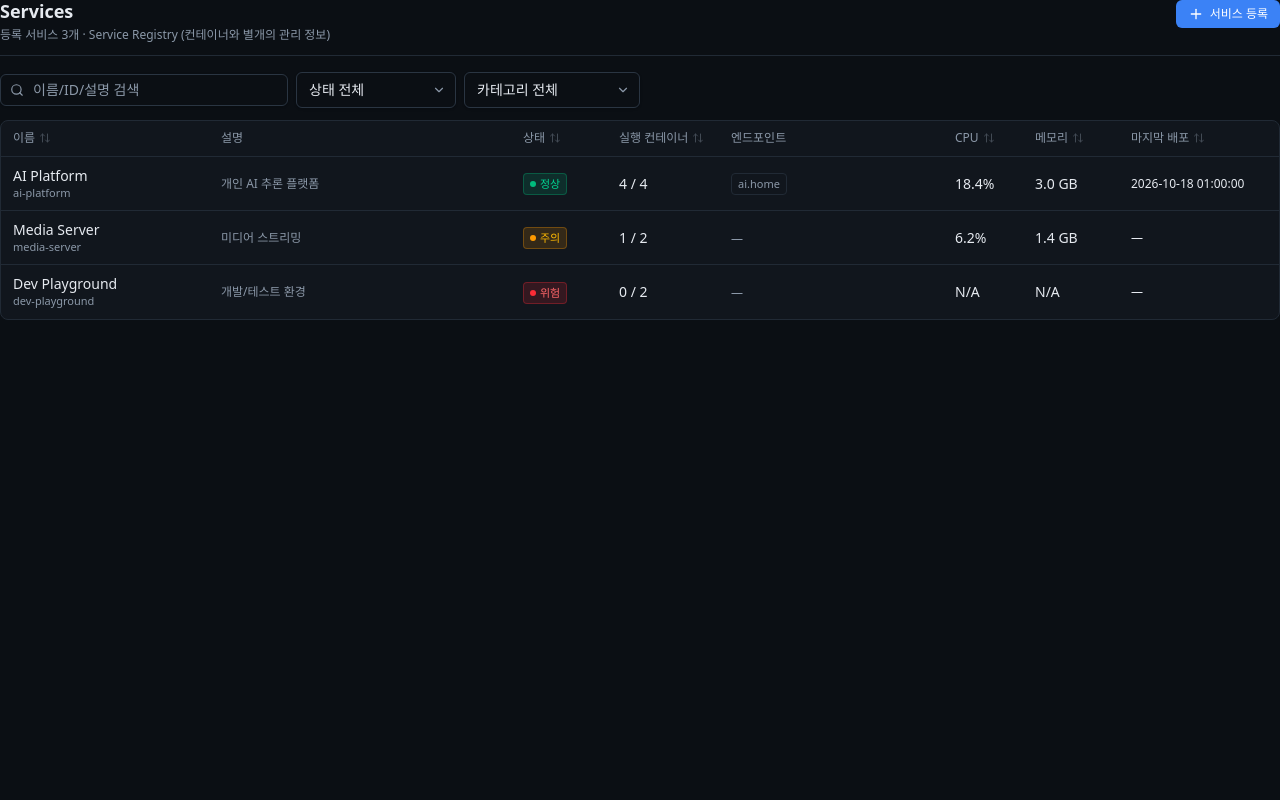
Services 페이지 › 등록 다이얼로그에서 필수값 검증 오류를 표시한다
Expected: the text "AI Platform" is shown, [13,166,88,185]
Click the button "서비스 등록".
click(1228, 14)  # box [1176,0,1279,28]
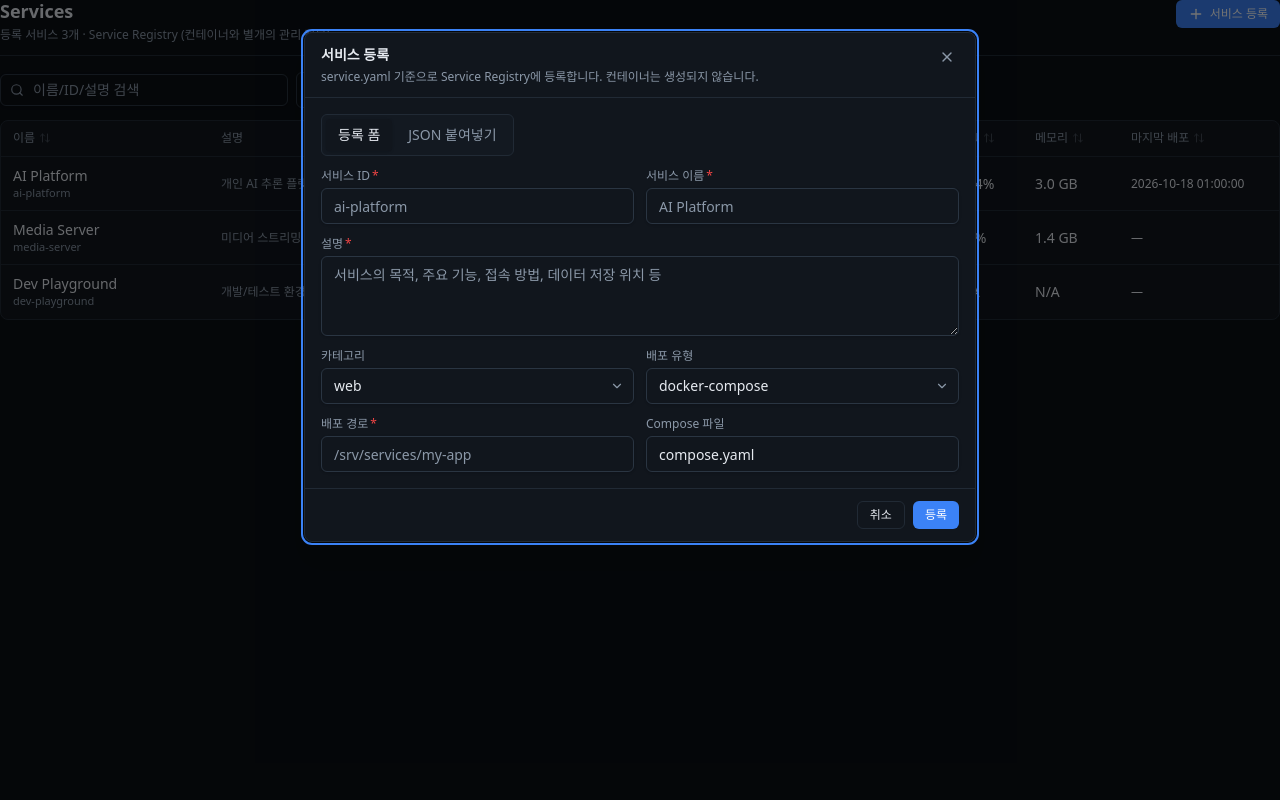
Click the button "등록".
click(936, 515)  # box [913,501,959,529]
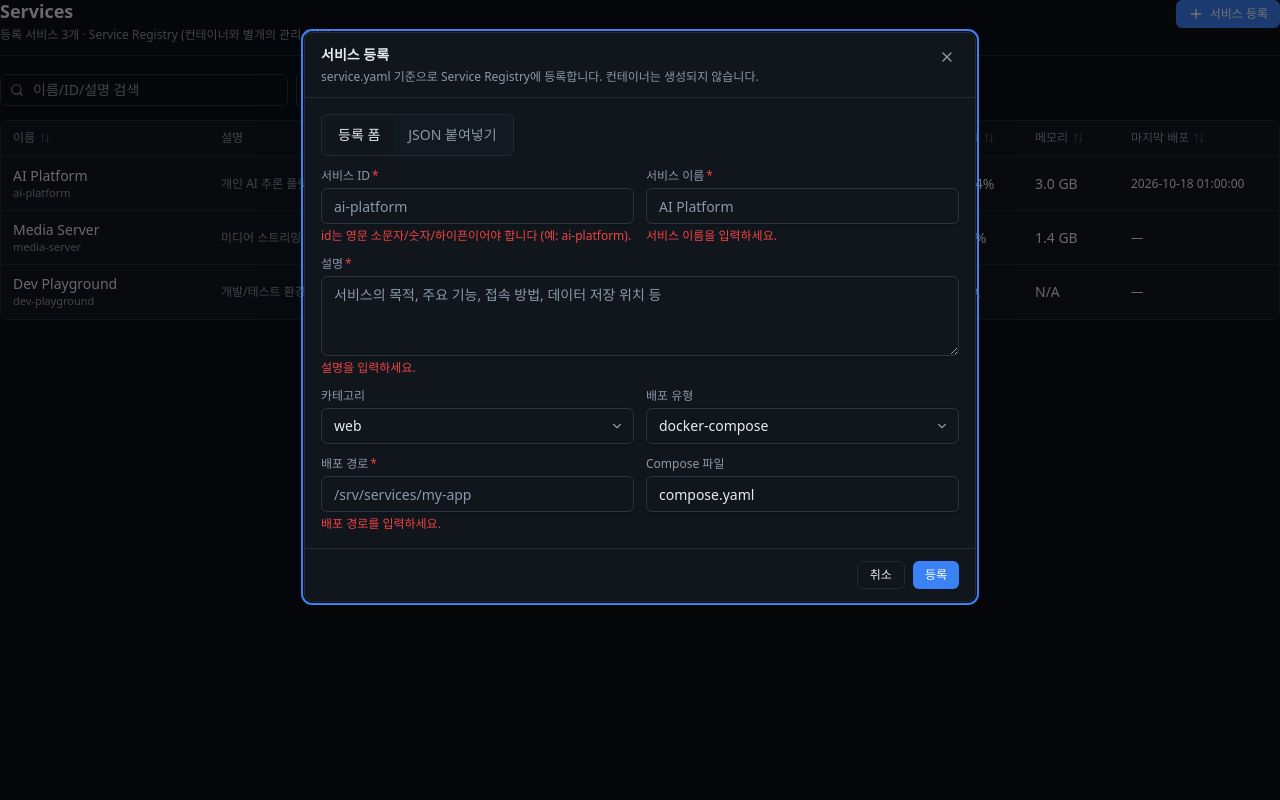
Result: the text "id는 영문 소문자/숫자/하이픈이어야 합니다 (예: ai-platform)." is shown at [321,228,634,244]
Result: the text "서비스 이름을 입력하세요." is shown at [646,227,777,244]
Result: the text "설명을 입력하세요." is shown at [321,359,416,376]
